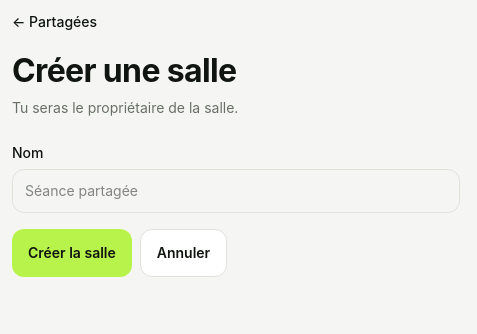
Scenario: CreateSharedWorkoutRoomPage › affiche une erreur API
Step 1. Click the button "Créer la salle" → {"x": 72, "y": 253}, box [12,229,132,277]
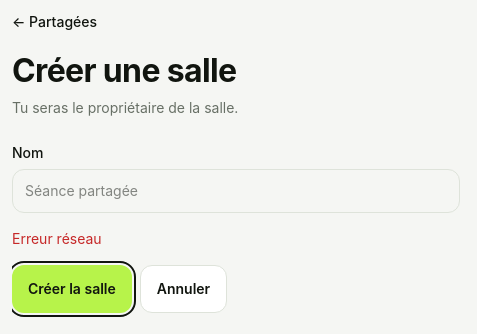
Expected: the message "Erreur réseau" is shown, [12,230,102,247]
